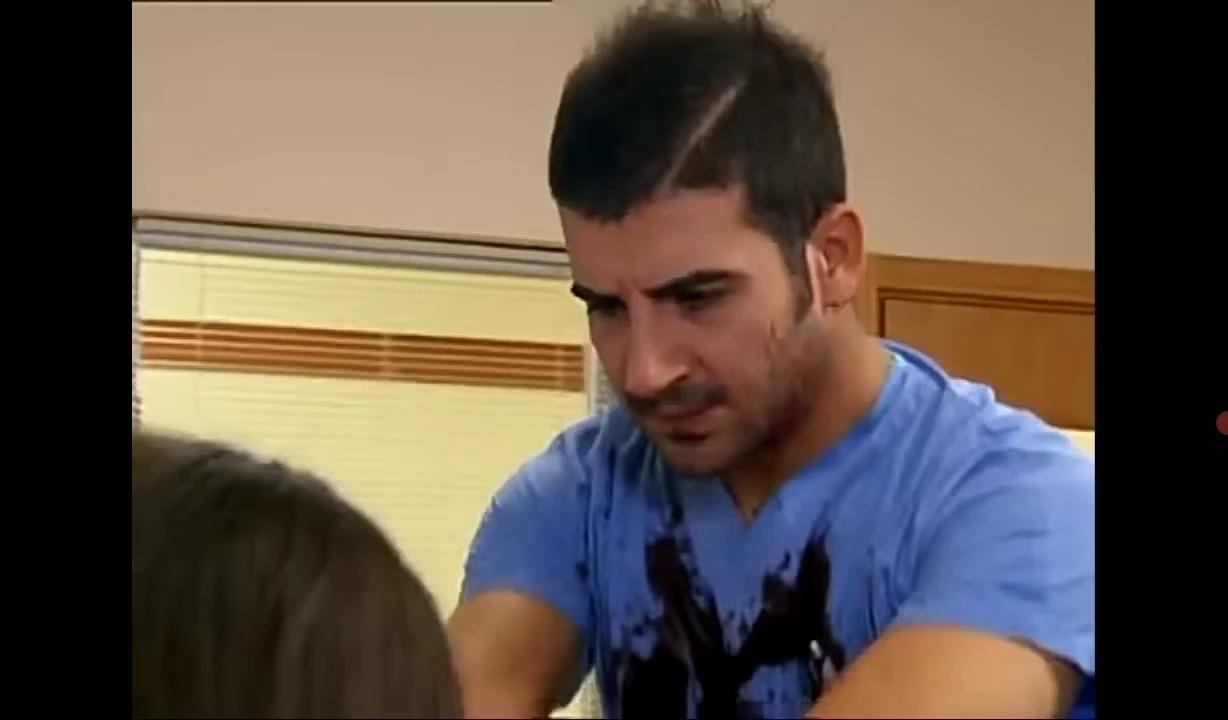Fire: (543, 467, 851, 718)
